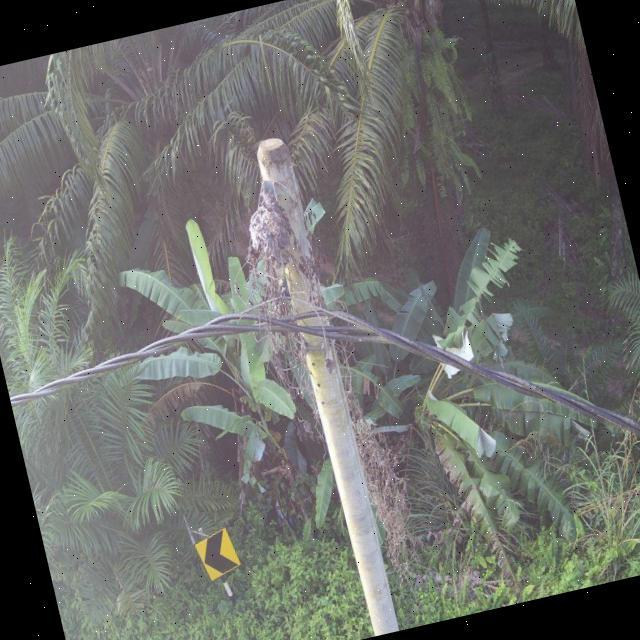critical vegetation: (218, 160, 441, 618)
